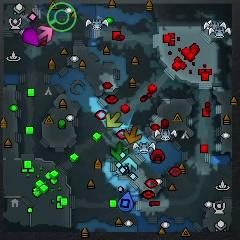p1: (116, 190, 135, 212)
p3: (22, 27, 40, 47)
x1: (38, 24, 53, 44)
x2: (105, 112, 121, 129)
x3: (121, 156, 137, 174)
x4: (109, 142, 129, 163)
x5: (123, 125, 142, 145)
